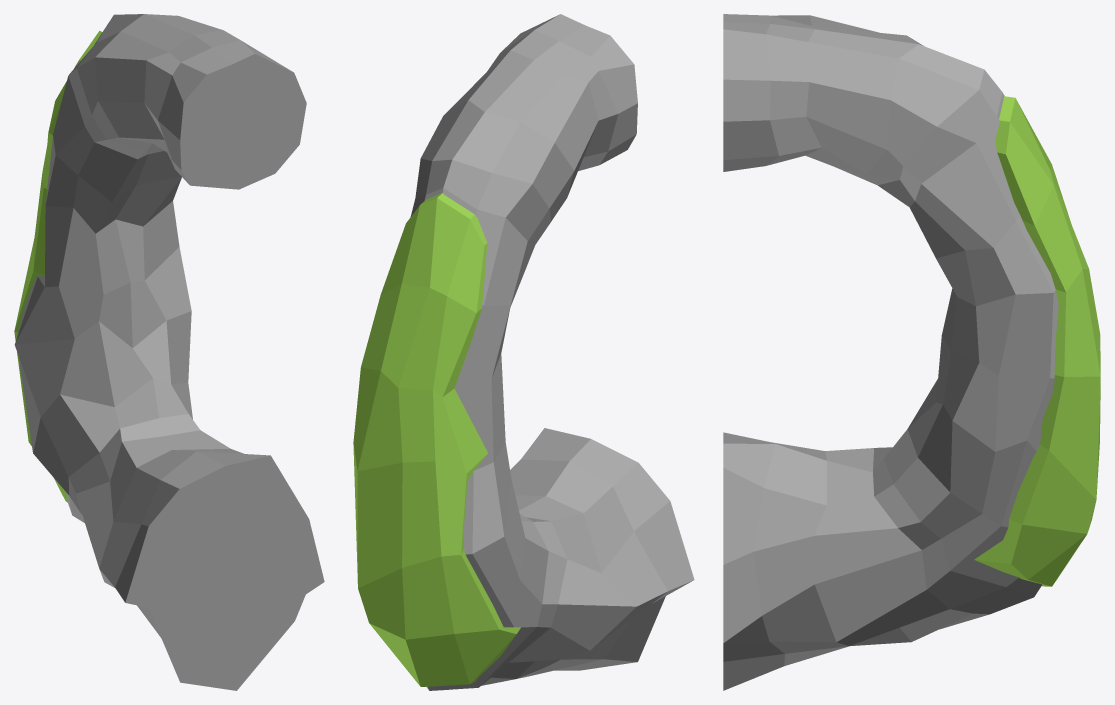
The model's file is ArchRock_Grass.fbx.
3 views of the same model, side by side, from view 1: azimuth 30°, elevation 25°; view 2: azimuth 150°, elevation 25°; view 3: azimuth 270°, elevation 25° (orthographic). The views are drawn at different scales.
Visible parts, largest first — view 1: ArchRock_Grass; view 2: ArchRock_Grass; view 3: ArchRock_Grass.
Boxes of the visible parts, x1,y1,x2,y2 form: ArchRock_Grass: [14, 14, 324, 690]; ArchRock_Grass: [353, 14, 694, 690]; ArchRock_Grass: [723, 14, 1100, 690].
Size of the model in its own units: 97.85 by 297 by 151.
